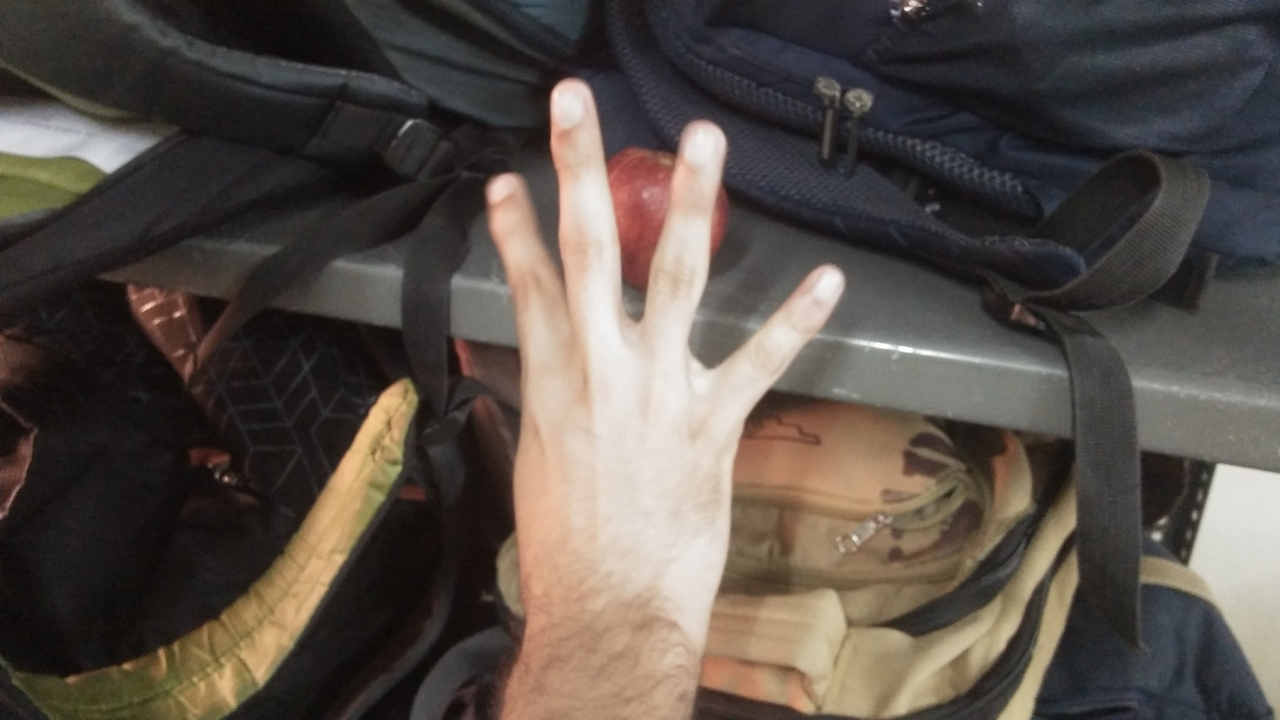fingertip: (666, 112, 738, 174), (536, 70, 604, 134), (788, 252, 860, 310), (472, 160, 534, 218)
